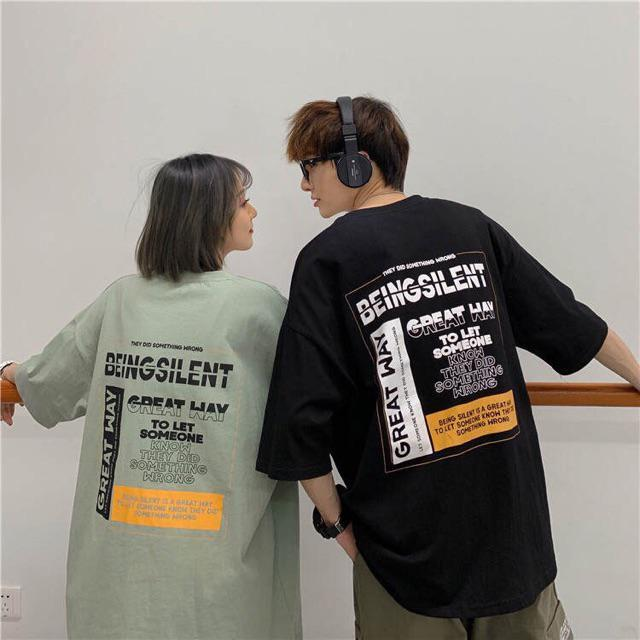Shirt: (281, 194, 601, 617), (11, 254, 308, 639)
